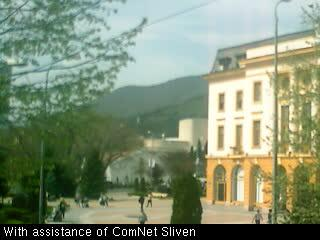person: (253, 208, 262, 224), (139, 195, 146, 212), (60, 200, 66, 219), (139, 212, 148, 224), (146, 193, 153, 208), (98, 191, 105, 206), (83, 194, 90, 209), (103, 191, 109, 208), (267, 209, 272, 223), (80, 194, 84, 208)
